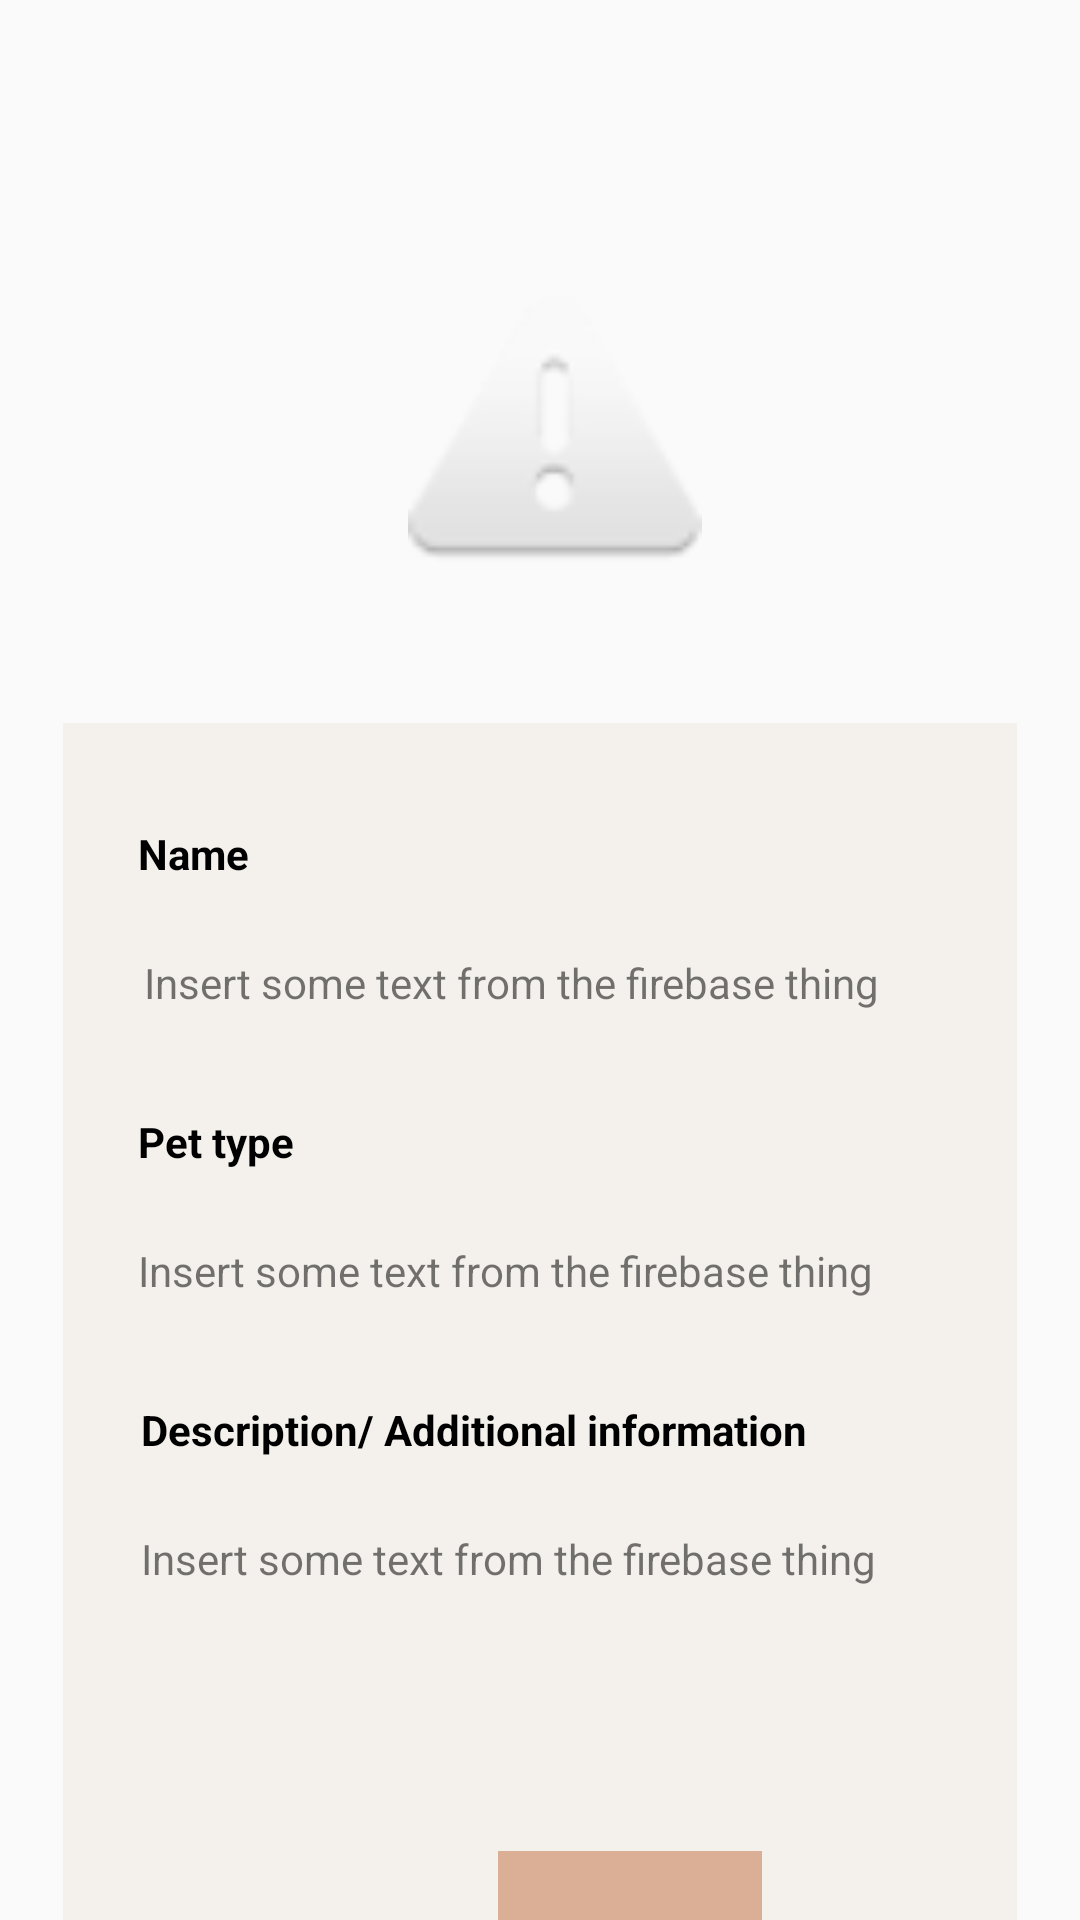

Where to tap for icons on this 1080*1920 app screen, as [x,y]:
alert: [552,457]
